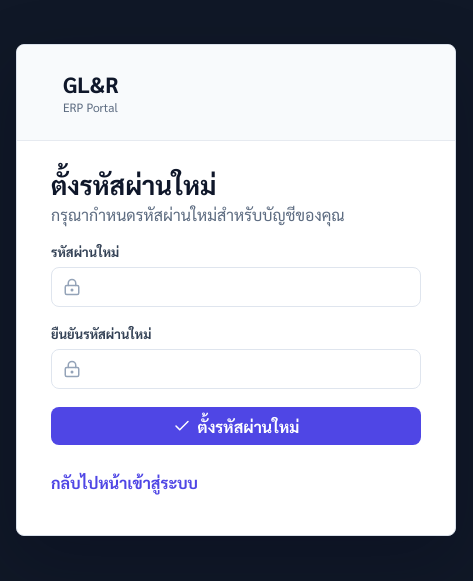
it: ResetPasswordPage › client-side validation › blocks submit when the new password is under 8 characters
Type "short" into the password field with test id "reset-password-new".
click(236, 287); type("short")  # box [51,267,421,307]
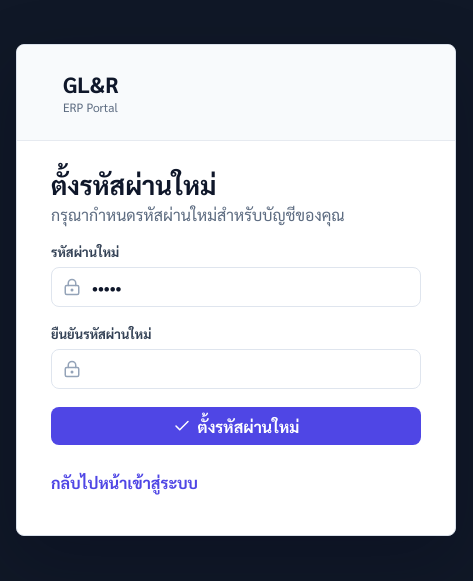
Type "short" into the password field with test id "reset-password-confirm".
click(236, 369); type("short")  # box [51,349,421,389]
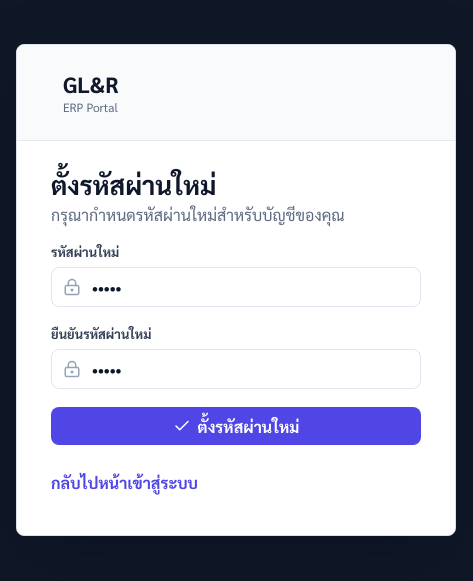
Click the button with test id "reset-password-submit".
click(236, 426)  # box [51,407,421,445]
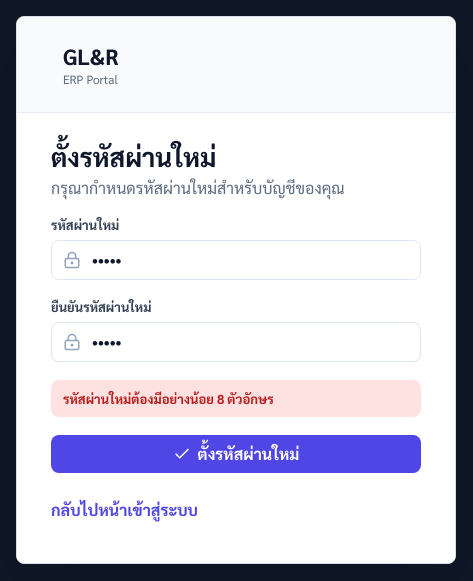
Check: the text "รหัสผ่านใหม่ต้องมีอย่างน้อย 8 ตัวอักษร" is shown, box [51,380,421,417]
